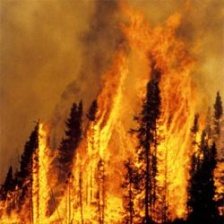fire: (37, 123, 190, 223), (98, 23, 143, 121), (169, 40, 192, 121)
smoke: (4, 2, 122, 111)
